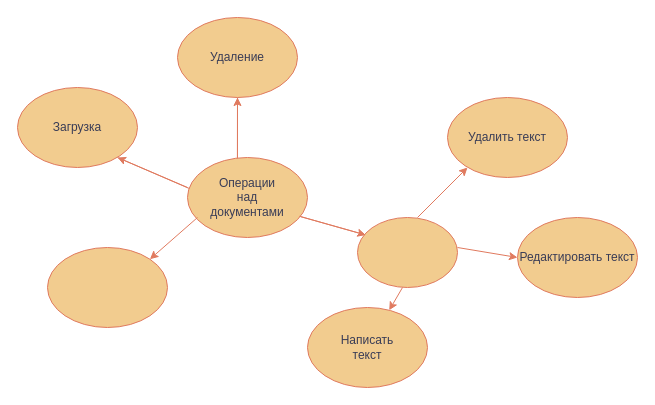
Some shapes in this 655 by 405 pixel diagram are drawn without their labels. Here are the shapes that lost their labels. From the top down, the centre of each, then its label:
At point 407,252: "Редактирование".
At point 107,287: "Создание".
